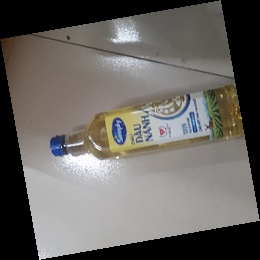Simply: (49, 84, 248, 161)
